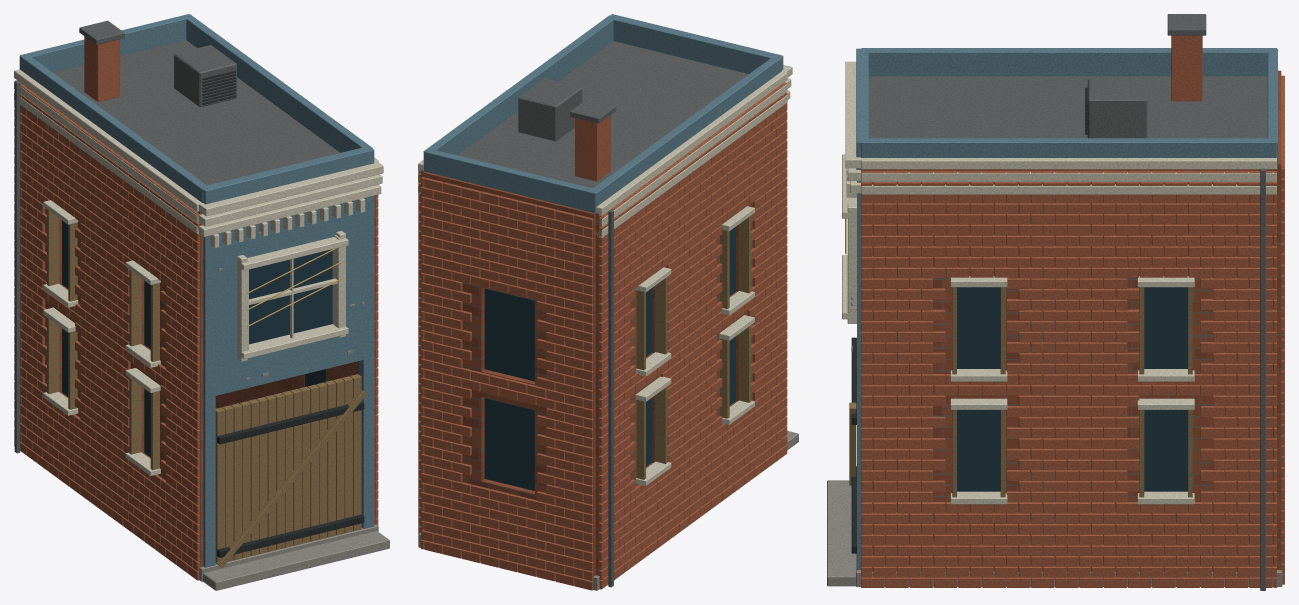
The model's file is WRHS6_lod0.glb.
The picture shows the model from 3 angles, left to right: view 1: azimuth 30°, elevation 25°; view 2: azimuth 150°, elevation 25°; view 3: azimuth 270°, elevation 25°; orthographic projection. The views are drawn at different scales.
Parts seen in each view (by area): view 1: WRHS6_LOD0; view 2: WRHS6_LOD0; view 3: WRHS6_LOD0.
Boxes of the visible parts, box(x1,y1,x2,y2) form: WRHS6_LOD0: box(14, 14, 389, 590); WRHS6_LOD0: box(418, 14, 798, 590); WRHS6_LOD0: box(827, 14, 1284, 590).
Size of the model in its own units: 3.71 by 7.85 by 6.6.
Materials: 13 (10 with a texture image).
